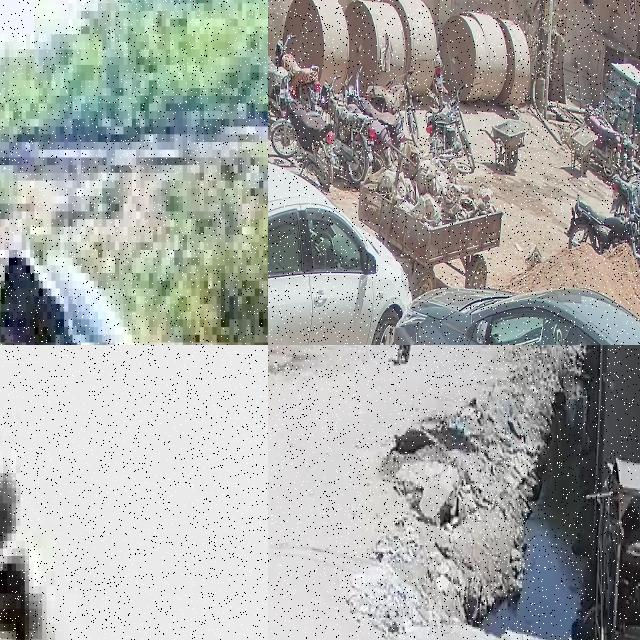bike: (0, 345, 255, 640), (0, 250, 268, 345), (270, 75, 339, 188), (319, 75, 375, 188), (346, 66, 405, 152), (564, 192, 638, 257), (344, 74, 392, 169), (364, 70, 420, 147), (426, 84, 476, 170), (275, 35, 321, 111), (583, 104, 621, 180), (268, 27, 293, 124), (610, 168, 640, 218), (435, 52, 448, 106), (398, 345, 409, 362)
car: (268, 159, 410, 345)
